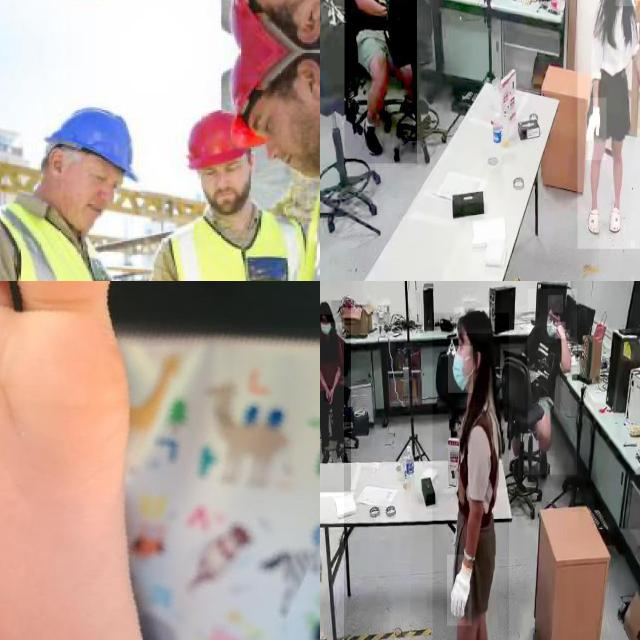Barefoots: (0, 281, 170, 640)
No_Ear-Protection: (295, 55, 320, 106), (43, 148, 68, 182)
No_Glasses: (84, 161, 123, 196), (199, 158, 247, 183)
face_mask: (448, 346, 473, 392), (320, 316, 334, 342), (544, 315, 556, 343)
face_nomask: (61, 179, 110, 235), (204, 173, 252, 214)
hand_glove: (447, 554, 472, 626), (585, 98, 607, 160)
hand_noglove: (555, 322, 566, 339), (327, 387, 334, 405), (324, 386, 330, 402)
head_helmet: (45, 109, 138, 180), (189, 112, 260, 169)
head_nohelmet: (454, 308, 492, 334), (548, 295, 564, 314), (320, 300, 332, 315)
person: (432, 312, 509, 640), (577, 0, 640, 249), (344, 0, 417, 164), (528, 289, 578, 475), (320, 300, 351, 492)
shoes: (360, 108, 386, 159)
